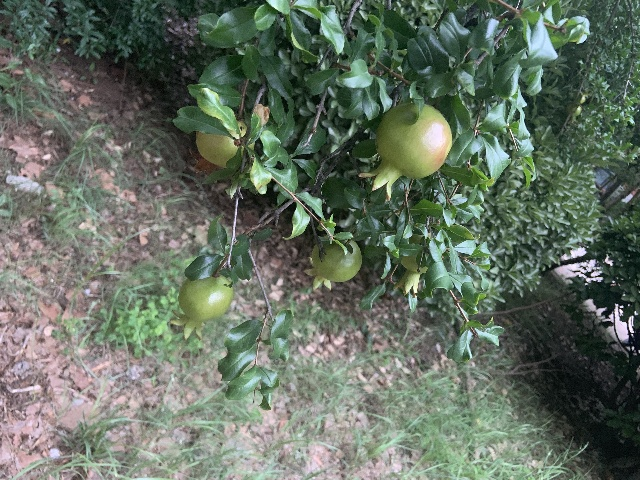mid-growth: (358, 102, 452, 201), (169, 274, 233, 339), (393, 232, 443, 298), (302, 239, 361, 290), (195, 119, 254, 167)
